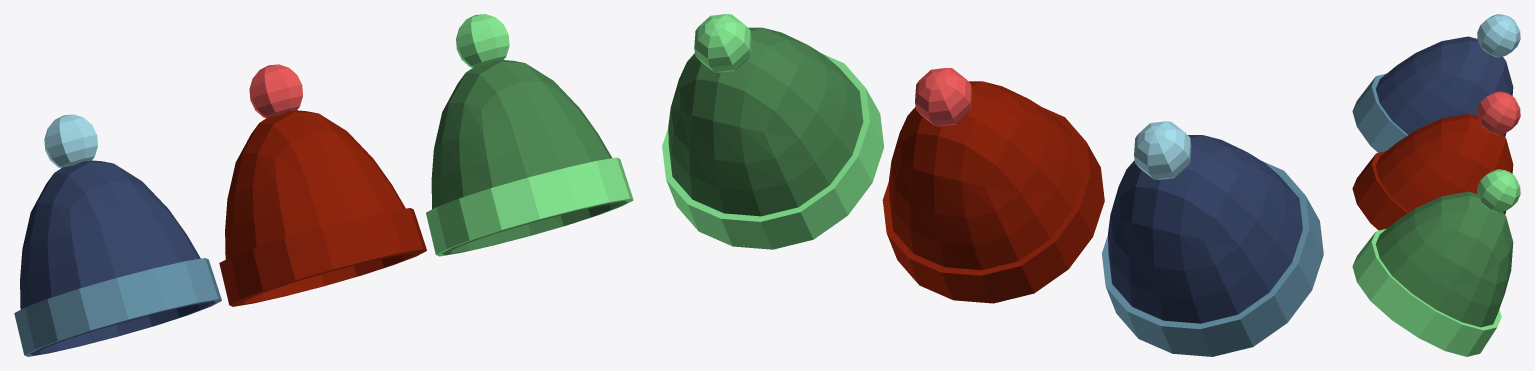
File: 2b590df8-92ed-4588-9287-9e683c0bac10.glb
The picture shows the model from 3 angles, left to right: view 1: azimuth 30°, elevation 25°; view 2: azimuth 150°, elevation 25°; view 3: azimuth 270°, elevation 25°; orthographic projection. The views are drawn at different scales.
Visible parts, largest first — view 1: Node; view 2: Node; view 3: Node.
Part boxes in pixels (x1,y1,x2,y2): Node: (14, 14, 633, 356); Node: (662, 14, 1323, 356); Node: (1352, 14, 1520, 356).
Bounding box in the file's own units: 3.63 × 1.31 × 1.16.
